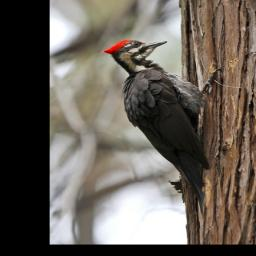Woodpecker: (102, 39, 222, 215)
